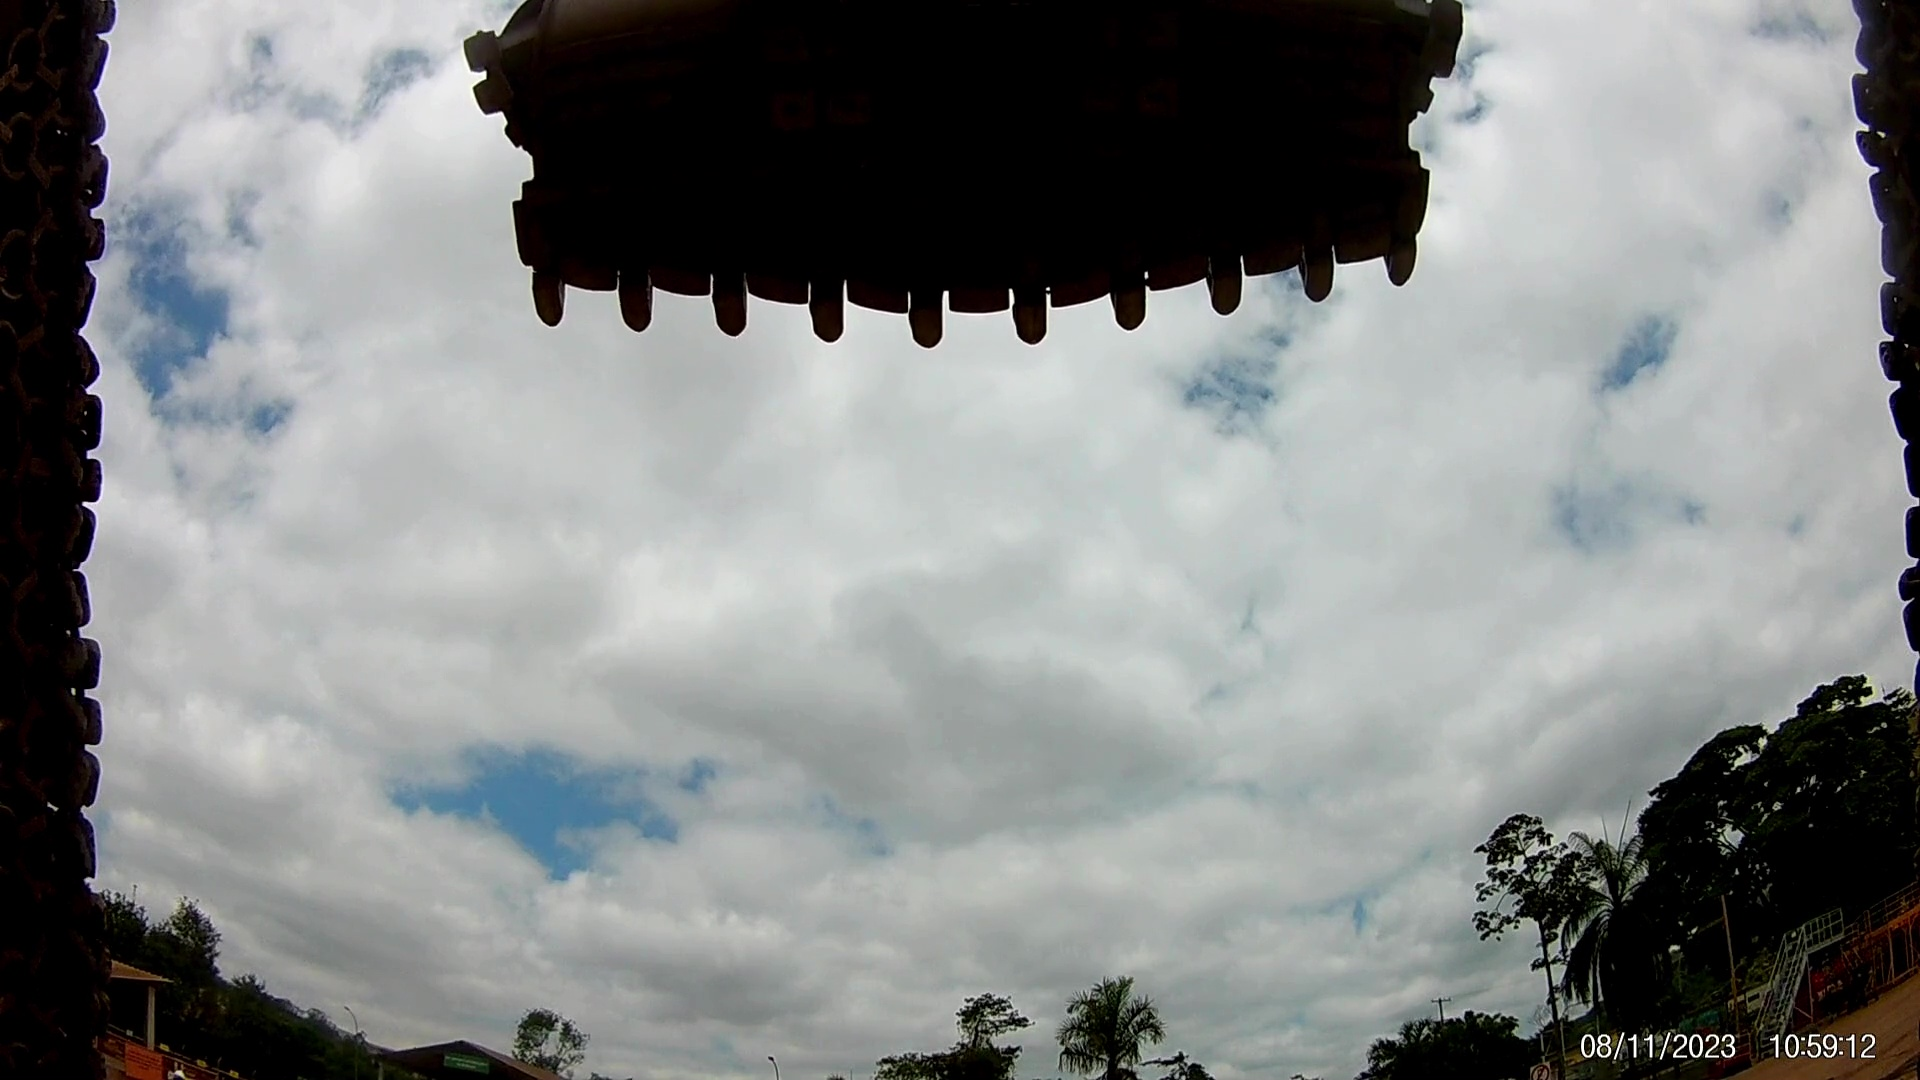FPS: (1108, 405, 1244, 460), (1145, 310, 1261, 372), (1108, 641, 1192, 717), (1154, 215, 1263, 269), (1124, 493, 1236, 541), (1174, 138, 1294, 181), (1113, 738, 1192, 793), (1106, 812, 1197, 857), (1125, 872, 1182, 936), (1137, 568, 1193, 624)
